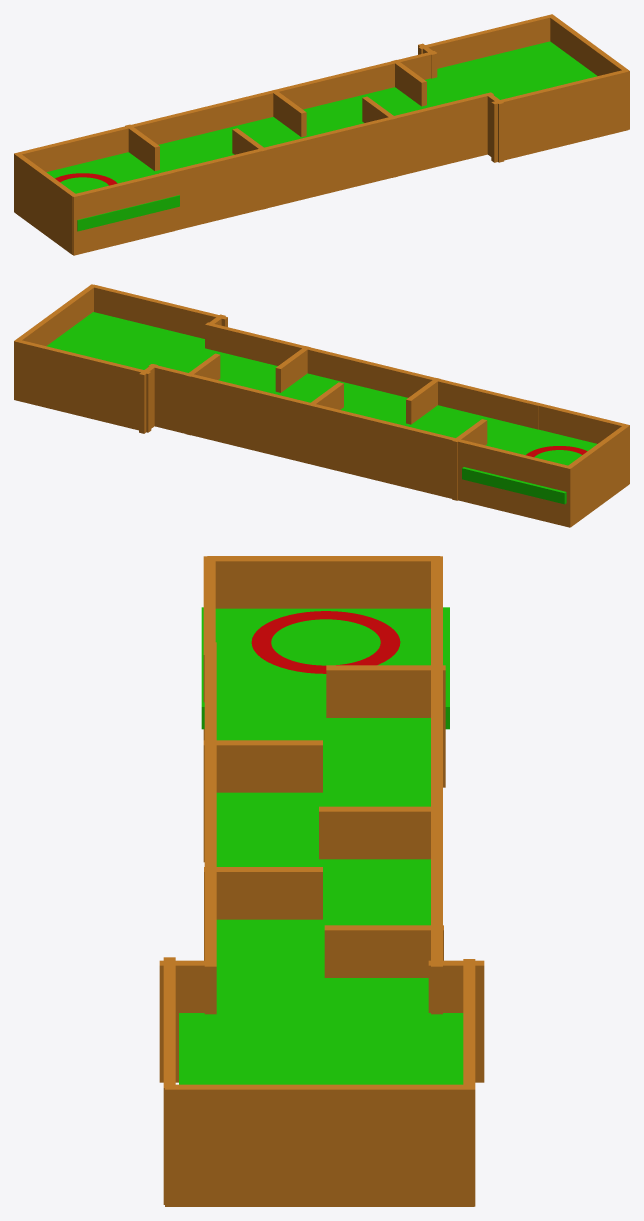
File: level#3.fbx
3 views of the same model, one above another, from view 1: azimuth 30°, elevation 25°; view 2: azimuth 150°, elevation 25°; view 3: azimuth 270°, elevation 25° (orthographic). The views are drawn at different scales.
Parts seen in each view (by area): view 1: Cube.002, Cube.005, Cube.003, Cube, Cube.001, Cube.016, Cube.017, Cube.009, Cube.004, Cube.015, Cube.006, Cube.012 (+5 smaller); view 2: Cube.003, Cube.002, Cube.004, Cube, Cube.001, Cube.015, Cube.017, Cube.005, Cube.009, Cube.016, Cube.006, Cube.011 (+5 smaller); view 3: Cube, Cube.006, Cube.001, Cube.009, Cube.017, Cube.012, Cube.013, Cube.014, Cube.011, Cube.010, Cube.002, Cube.003 (+7 smaller).
Part boxes in pixels (x1=…): Cube.002: x1=159, y1=92, x2=493, y2=230; Cube.005: x1=491, y1=70, x2=628, y2=162; Cube.003: x1=103, y1=51, x2=437, y2=157; Cube: x1=98, y1=74, x2=461, y2=180; Cube.001: x1=434, y1=41, x2=597, y2=99; Cube.016: x1=73, y1=171, x2=174, y2=255; Cube.017: x1=14, y1=152, x2=77, y2=254; Cube.009: x1=46, y1=154, x2=179, y2=231; Cube.004: x1=418, y1=14, x2=554, y2=68; Cube.015: x1=14, y1=129, x2=117, y2=211; Cube.006: x1=549, y1=14, x2=629, y2=129; Cube.012: x1=273, y1=92, x2=306, y2=137; Cube.003: x1=148, y1=364, x2=484, y2=505; Cube.002: x1=205, y1=322, x2=540, y2=429; Cube.004: x1=14, y1=339, x2=151, y2=432; Cube: x1=171, y1=347, x2=545, y2=452; Cube.001: x1=46, y1=312, x2=208, y2=370; Cube.015: x1=469, y1=444, x2=572, y2=527; Cube.017: x1=566, y1=424, x2=629, y2=526; Cube.005: x1=91, y1=284, x2=227, y2=338; Cube.009: x1=462, y1=431, x2=596, y2=504; Cube.016: x1=531, y1=401, x2=629, y2=483; Cube.006: x1=14, y1=284, x2=95, y2=345; Cube.011: x1=275, y1=346, x2=309, y2=392; Cube: x1=216, y1=682, x2=440, y2=1021; Cube.006: x1=165, y1=1084, x2=474, y2=1206; Cube.001: x1=179, y1=1010, x2=463, y2=1084; Cube.009: x1=201, y1=607, x2=449, y2=729; Cube.017: x1=207, y1=556, x2=440, y2=608; Cube.012: x1=319, y1=806, x2=437, y2=859; Cube.013: x1=203, y1=740, x2=322, y2=862; Cube.014: x1=326, y1=665, x2=445, y2=787; Cube.011: x1=204, y1=867, x2=322, y2=960; Cube.010: x1=324, y1=925, x2=443, y2=977; Cube.002: x1=204, y1=642, x2=216, y2=1014; Cube.003: x1=431, y1=642, x2=442, y2=1014.
Size of the model in its own units: 1955 by 200 by 502.
